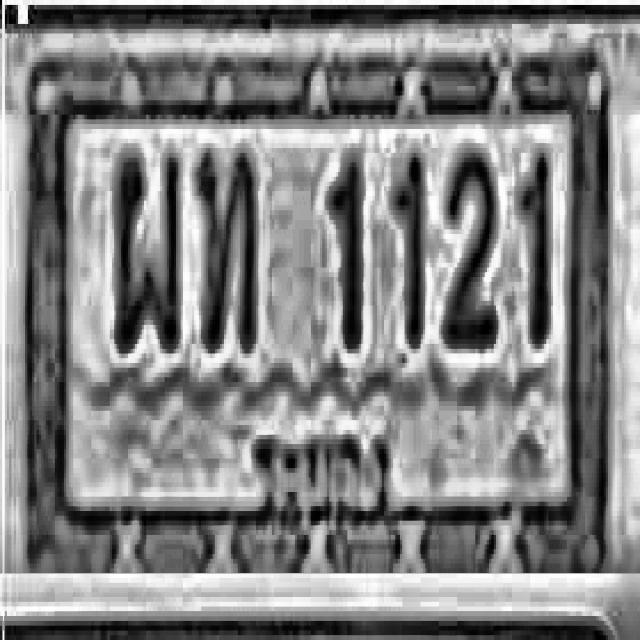license-plate: (20, 36, 608, 574)
